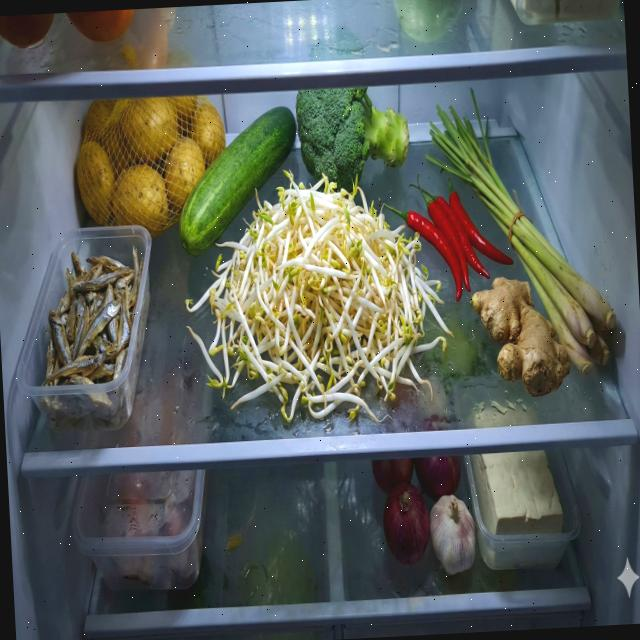anchovies: (35, 245, 154, 436)
bean_sprouts: (180, 160, 460, 434)
brocolli: (292, 23, 413, 196)
chili: (376, 164, 518, 308)
cucumber: (173, 106, 303, 257)
garlic: (428, 493, 478, 576)
ginger: (470, 274, 572, 399)
lemongrass: (422, 80, 620, 384)
onion: (371, 453, 466, 568)
potato: (73, 92, 232, 243)
tofu: (469, 448, 564, 539)
